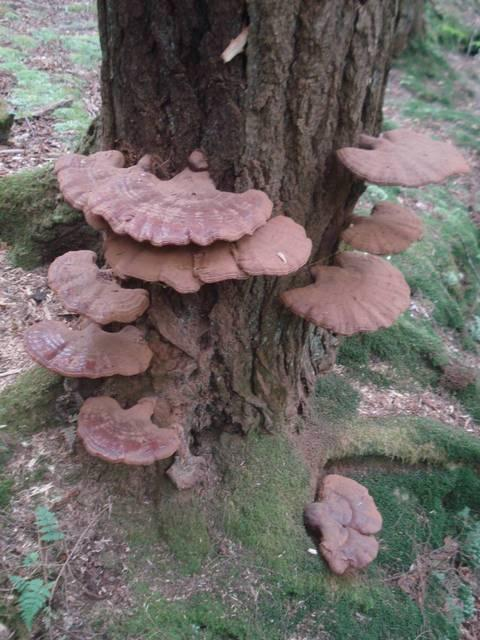poisonous_mushroom: (22, 149, 294, 469), (272, 97, 480, 346), (302, 472, 383, 576)
